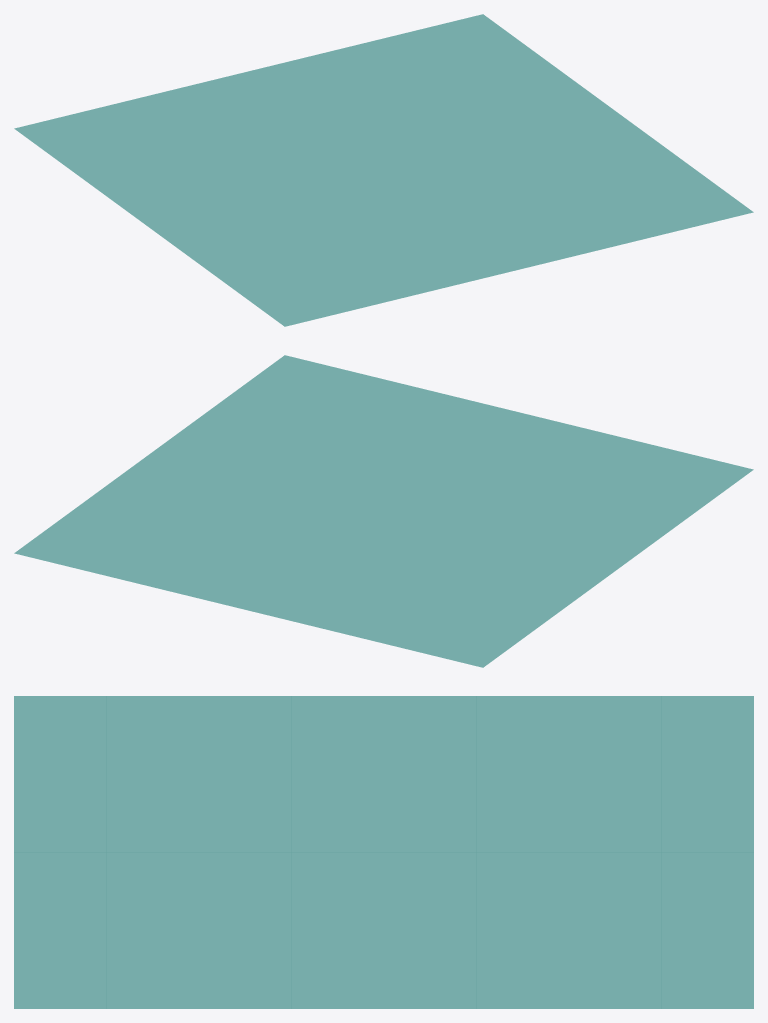
File: shallow_coastal_surface_64m.glb
3 renders of one model, top to bottom at view 1: azimuth 30°, elevation 25°; view 2: azimuth 150°, elevation 25°; view 3: azimuth 270°, elevation 25°, orthographic. The views are drawn at different scales.
Parts seen in each view (by area): view 1: water_surface; view 2: water_surface; view 3: water_surface.
Part boxes in pixels (box(x1,y1,x2,y2)): water_surface: box(14, 14, 753, 326); water_surface: box(14, 355, 753, 667); water_surface: box(14, 696, 753, 1008).
Size of the model in its own units: 64 by 0 by 64.
